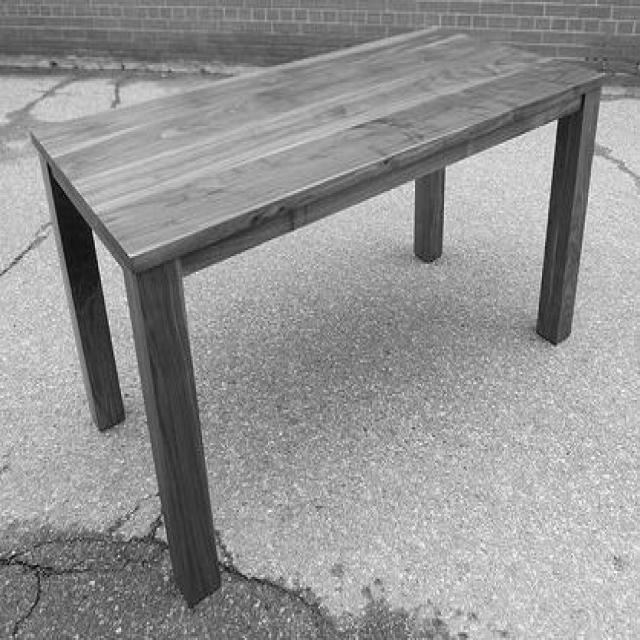table: (29, 24, 613, 604)
